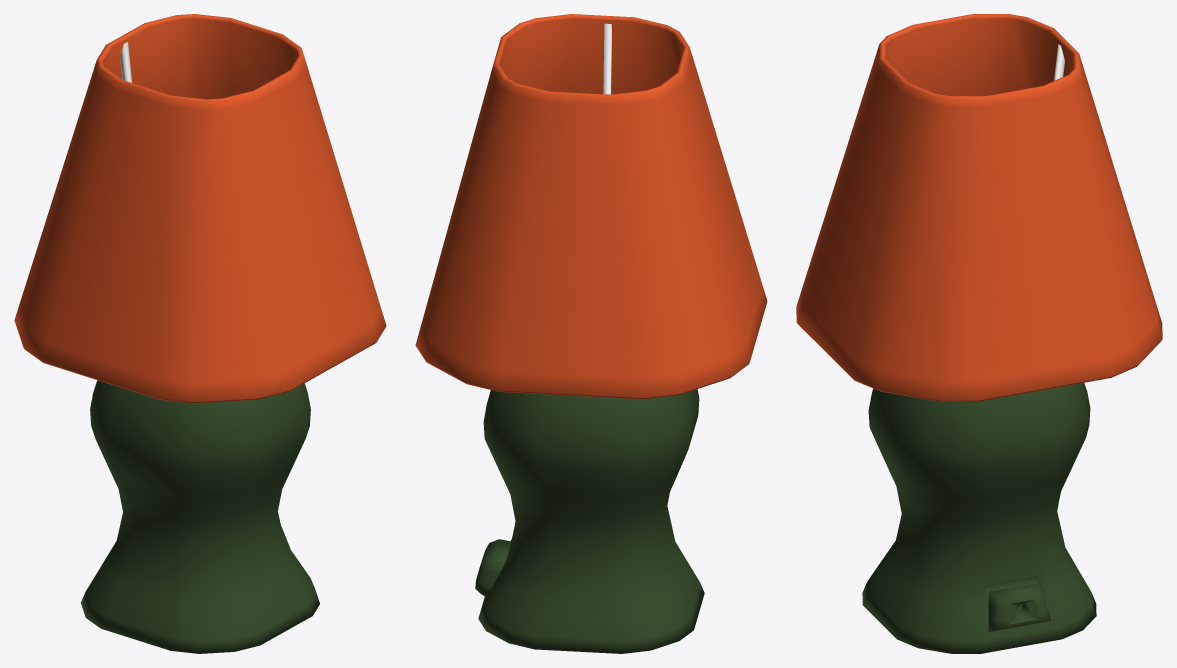
Rendered from table_lamp.glb.
3 renders of one model, left to right at view 1: azimuth 30°, elevation 25°; view 2: azimuth 150°, elevation 25°; view 3: azimuth 270°, elevation 25°, orthographic.
Parts seen in each view (by area): view 1: TableLamp; view 2: TableLamp; view 3: TableLamp.
Part boxes in pixels (x1=…): TableLamp: x1=14, y1=14, x2=386, y2=653; TableLamp: x1=415, y1=14, x2=767, y2=653; TableLamp: x1=796, y1=14, x2=1162, y2=653.
Size of the model in its own units: 0.2707 by 0.4478 by 0.2707.
